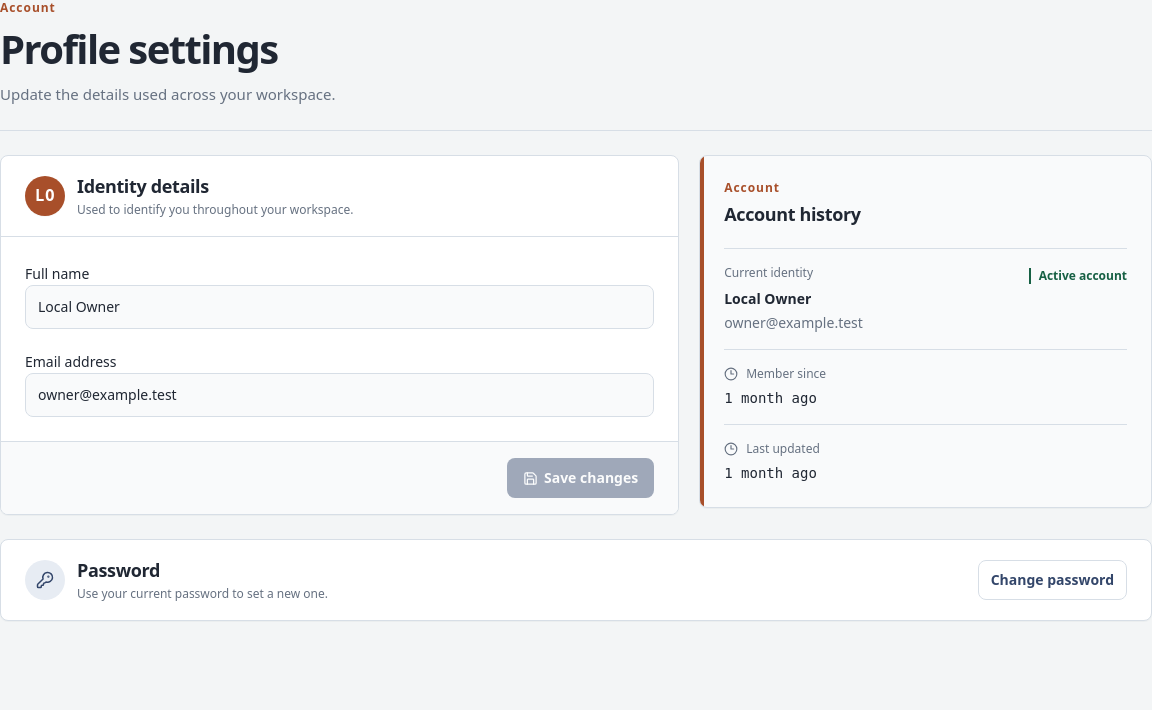
Test case: profile settings workflow › shows a friendly message when the password reset request is rate limited
What coordinates should you click on to do the following:
click the button "Change password"
I would click on:
 (1052, 580)
Its box is [978, 560, 1127, 600].
(page scrolled)
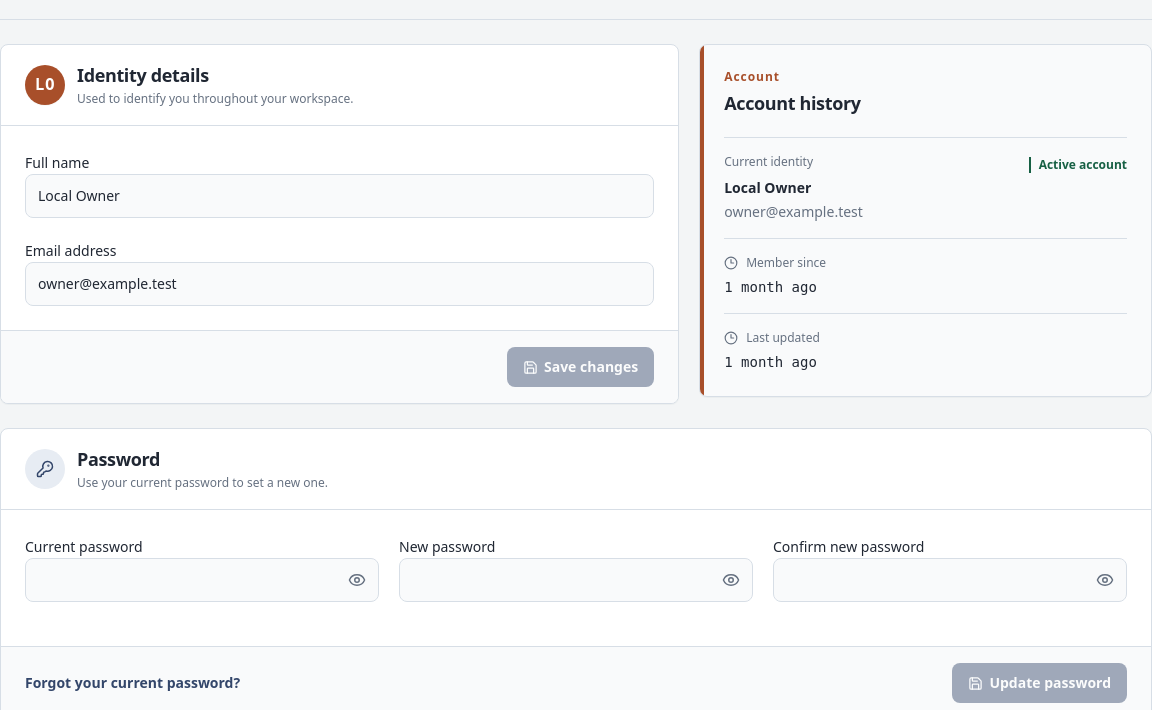
What coordinates should you click on to do the following:
click the button "Forgot your current password?"
I would click on:
 (133, 683)
Its box is [25, 673, 240, 693].
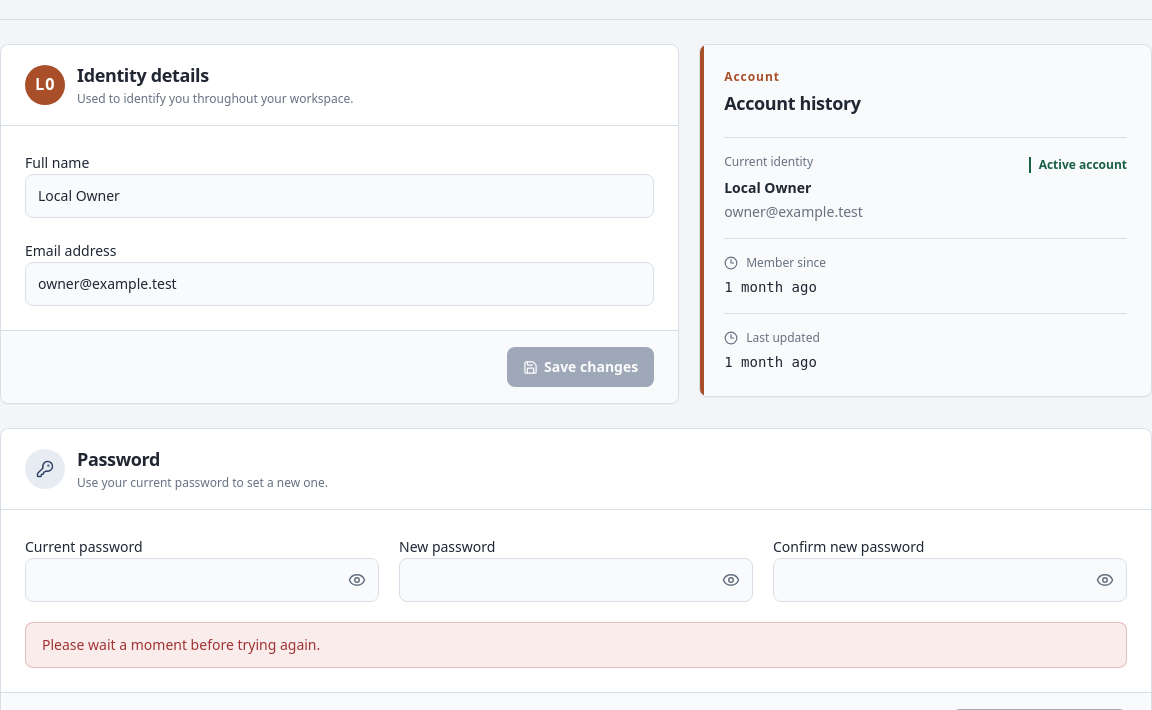
Expected: the text "Please wait a moment before trying again." is shown, [25, 622, 1127, 668]
